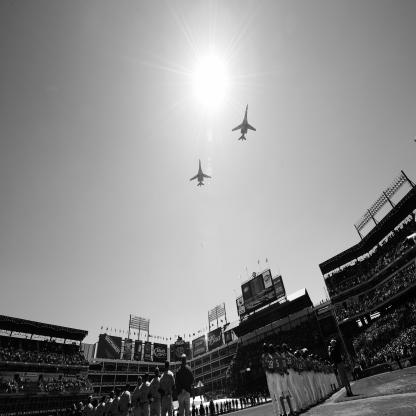B1: (233, 104, 257, 142), (191, 160, 212, 188)
